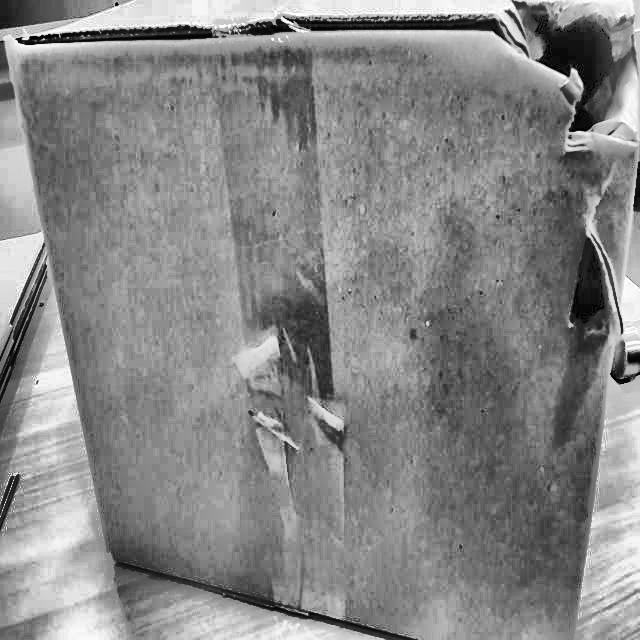box: (0, 0, 639, 639)
hole: (494, 0, 639, 156), (560, 216, 624, 350)
